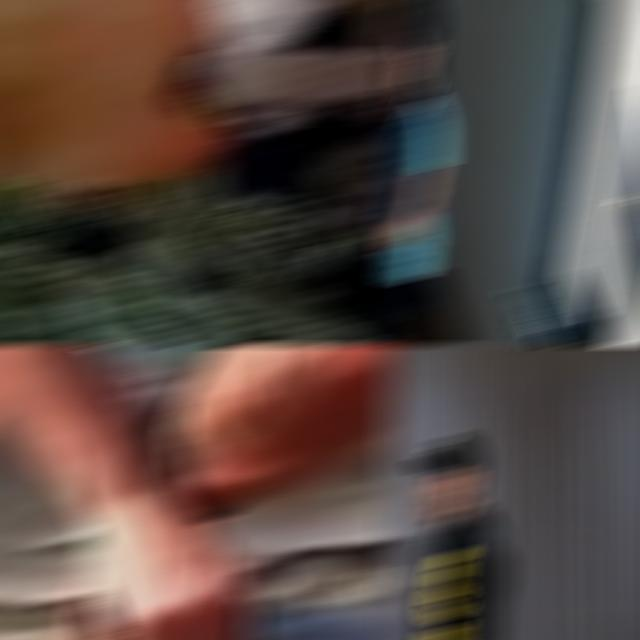Knife: (237, 596, 398, 638)
Knife_Handle: (0, 2, 398, 184), (31, 352, 398, 528)
